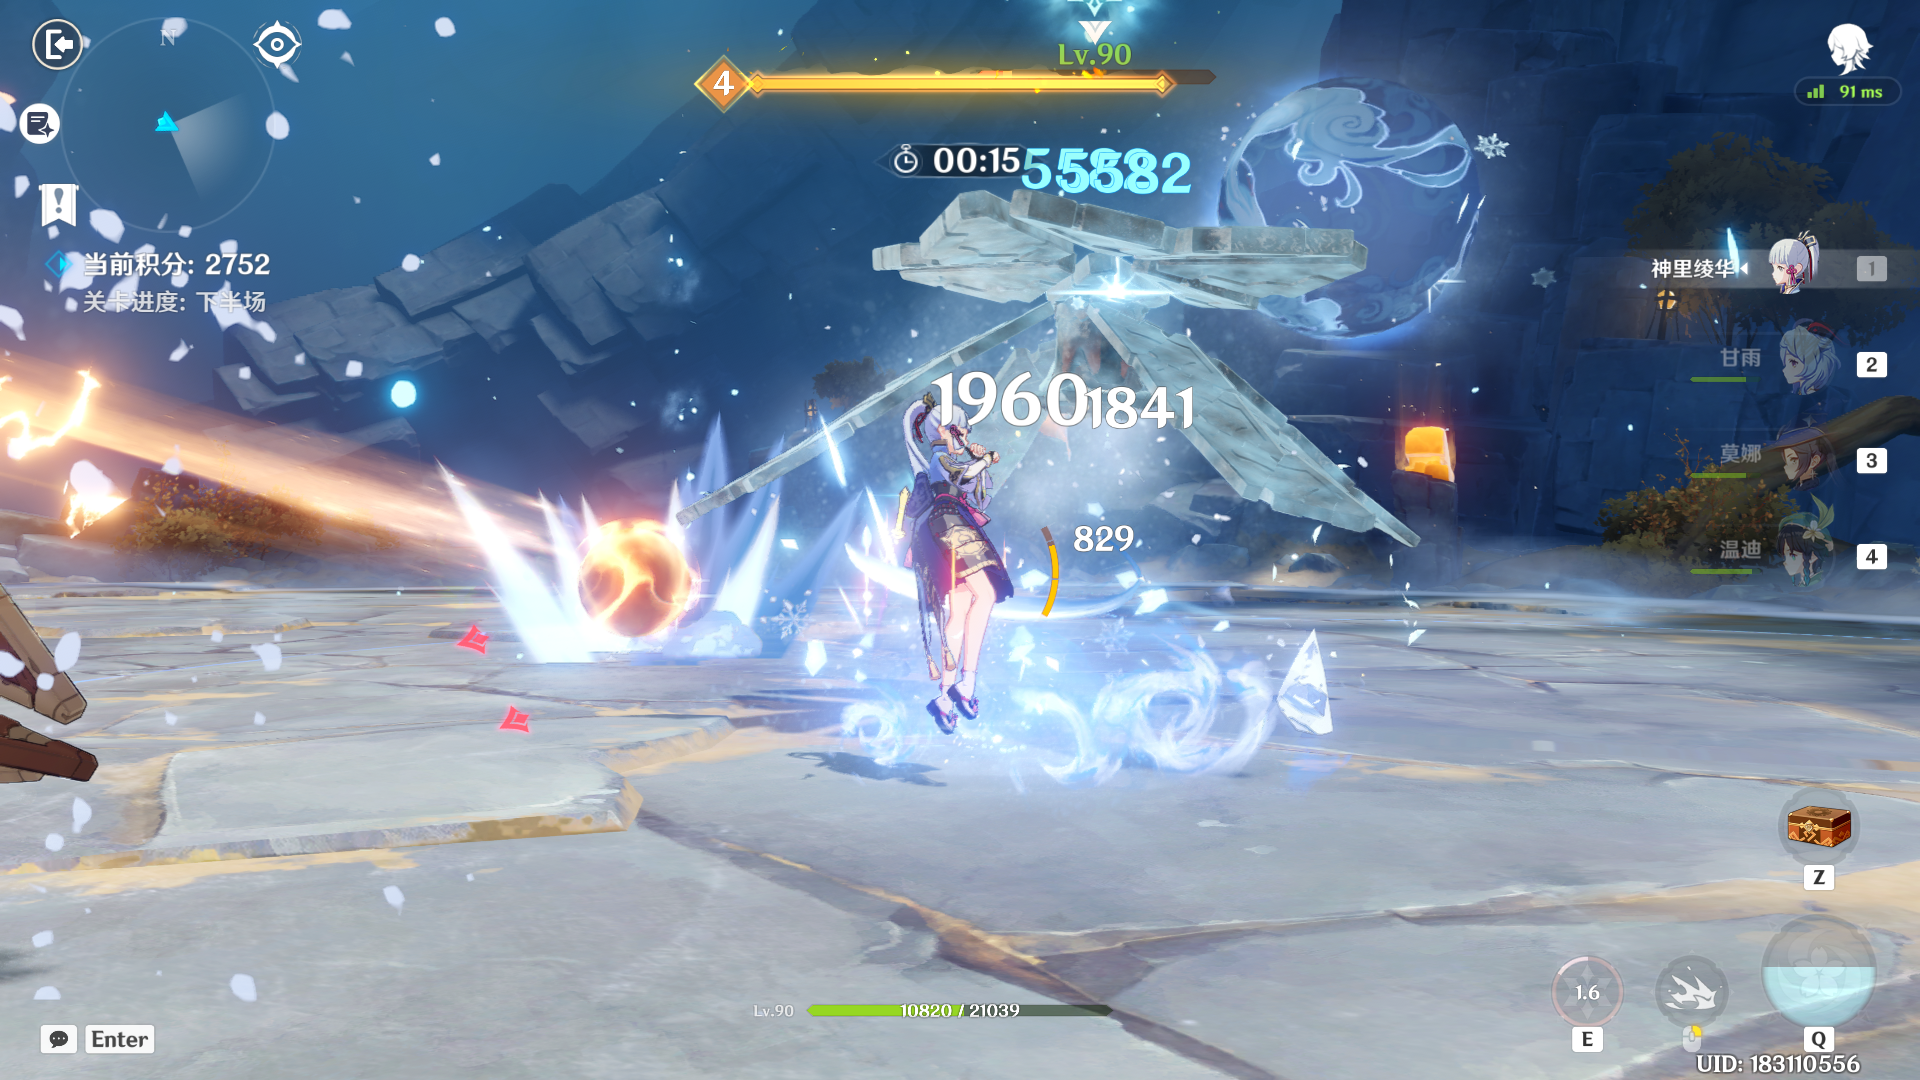character: (857, 378, 1079, 745)
